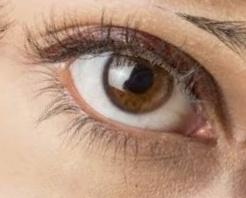eye: (100, 51, 176, 117)
